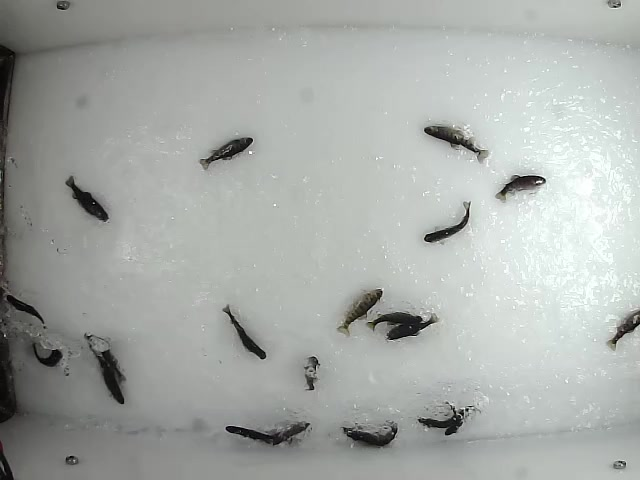fish: (421, 124, 492, 165), (220, 304, 269, 361), (83, 330, 130, 385), (336, 286, 384, 339), (61, 175, 112, 224), (421, 198, 473, 244), (197, 136, 254, 172), (90, 347, 125, 405), (380, 312, 442, 342), (339, 420, 399, 448), (494, 174, 549, 204), (365, 307, 422, 334), (5, 292, 47, 327), (222, 424, 294, 444), (417, 400, 458, 429), (267, 420, 307, 449), (443, 405, 477, 436), (30, 339, 65, 369), (302, 354, 319, 392)
